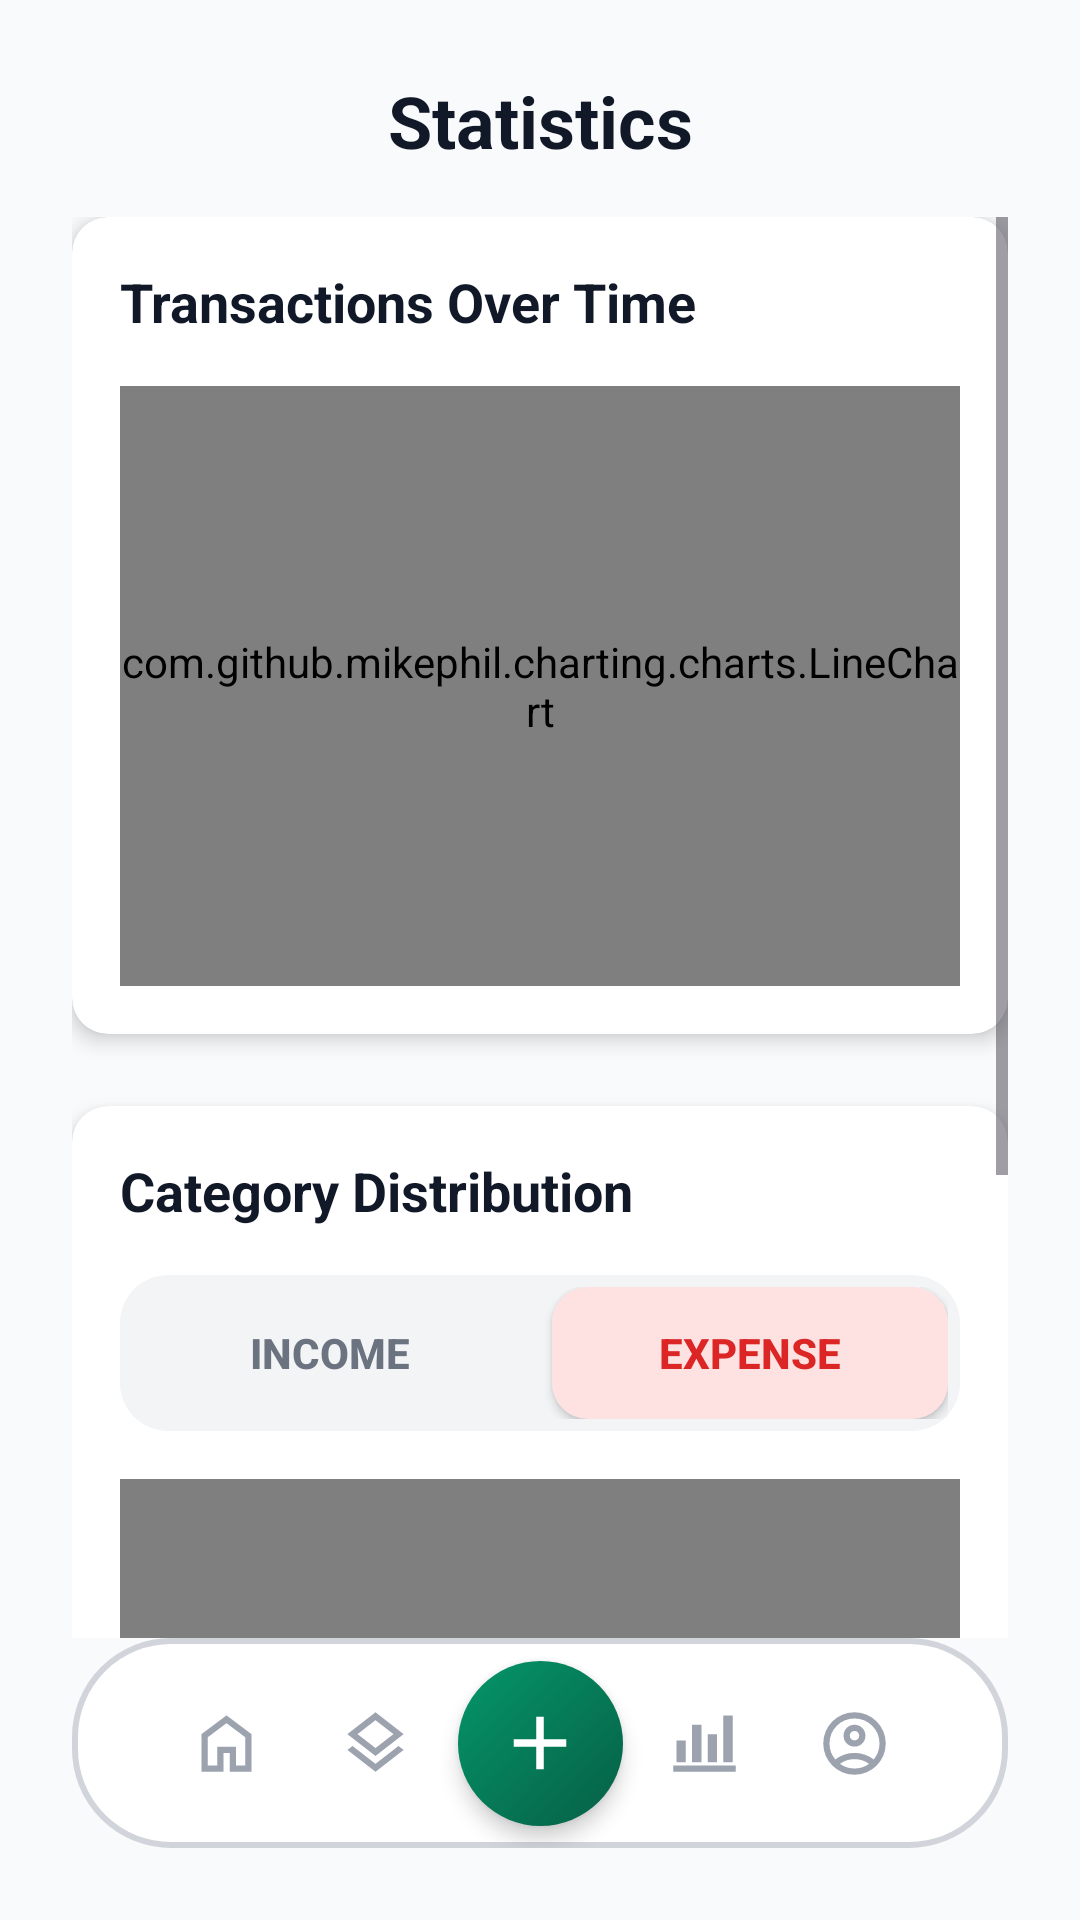

Locate icon controls on the screen. Image size 1080*1920, boxes as Rect(x1, y1, x2, y2).
add: Rect(513, 1716, 567, 1770)
category: Rect(347, 1712, 403, 1772)
home: Rect(201, 1715, 252, 1772)
profile: Rect(823, 1712, 886, 1775)
